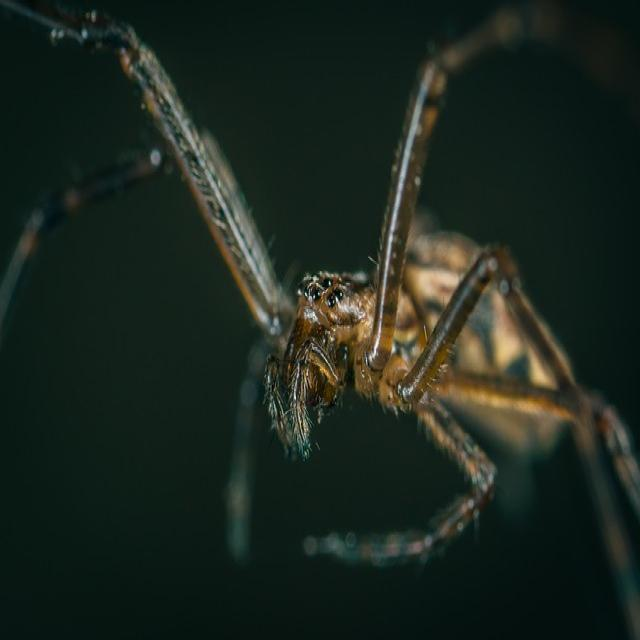spyder: (0, 1, 640, 635), (0, 148, 168, 331)
